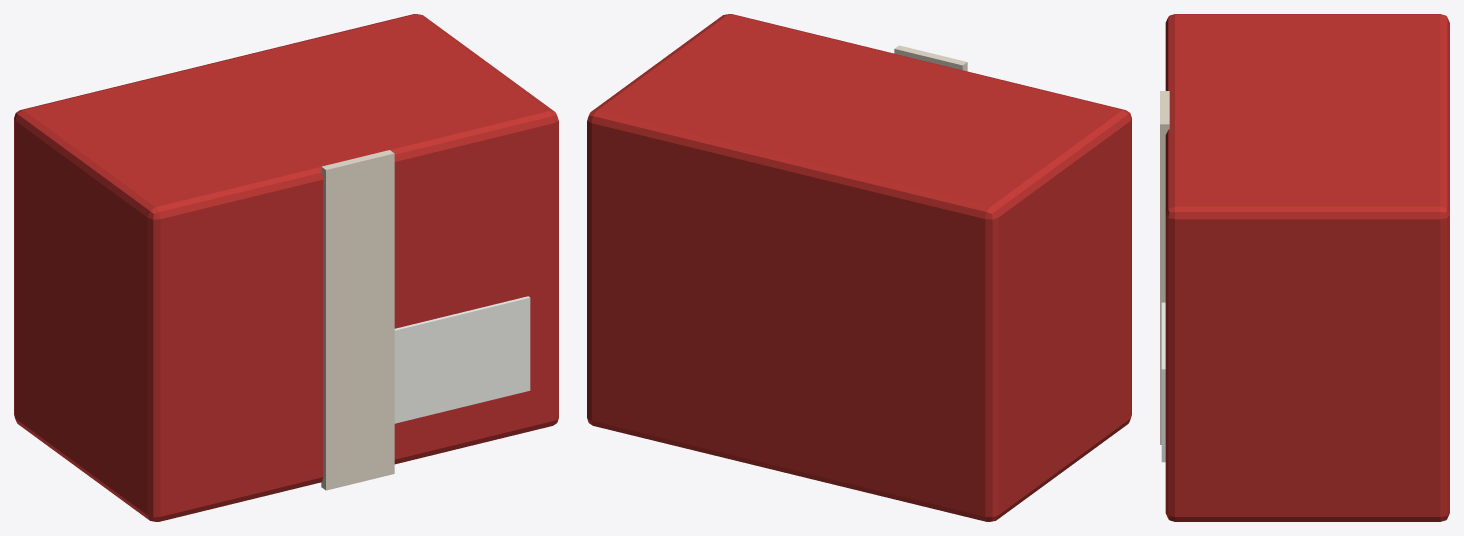
File: RED.glb
The picture shows the model from 3 angles, left to right: view 1: azimuth 30°, elevation 25°; view 2: azimuth 150°, elevation 25°; view 3: azimuth 270°, elevation 25°; orthographic projection.
Parts seen in each view (by area): view 1: RED_body, RED_tape, RED_label; view 2: RED_body, RED_tape; view 3: RED_body, RED_tape, RED_label.
Boxes of the visible parts, left/top/right/bottom form: RED_body: left=14, top=14, right=558, bottom=521; RED_tape: left=321, top=150, right=394, bottom=490; RED_label: left=394, top=296, right=530, bottom=423; RED_body: left=587, top=14, right=1131, bottom=521; RED_tape: left=894, top=45, right=967, bottom=71; RED_body: left=1165, top=14, right=1449, bottom=521; RED_tape: left=1160, top=91, right=1169, bottom=444; RED_label: left=1161, top=302, right=1165, bottom=462.
Bounding box in the file's own units: 0.3 × 0.224 × 0.1835.
